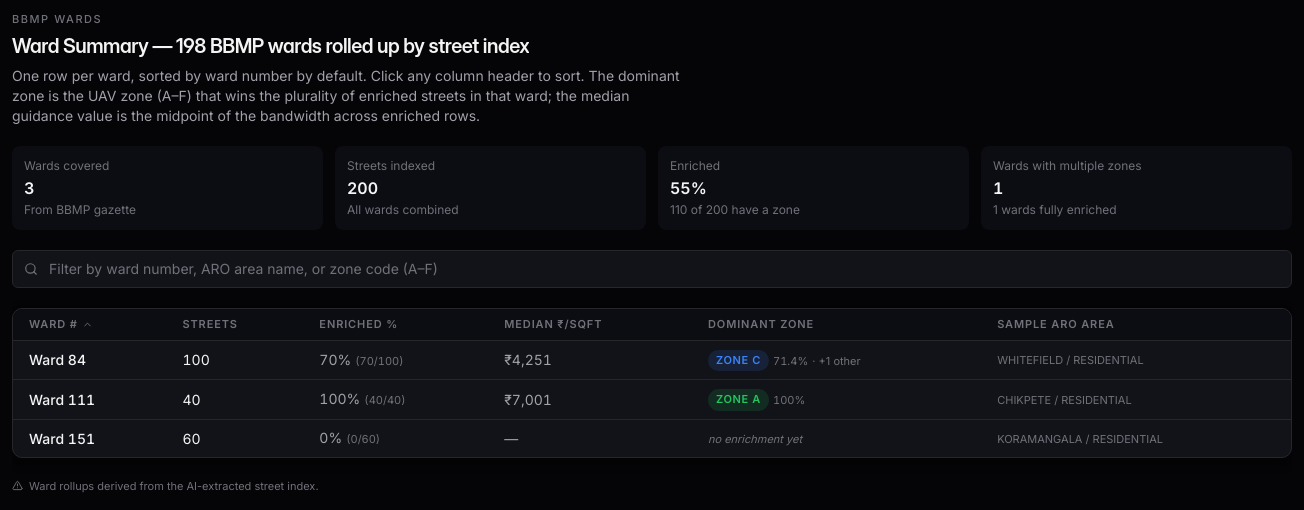
Test case: BbmpWardSummaryPanel › filters by ARO area name (case-insensitive)
Type "whitefield" into the search field with placeholder "Filter by ward number, ARO area name, or zone code (A–F)".
click(652, 269); type("whitefield")  # box top-left (12, 250), bottom-right (1292, 288)
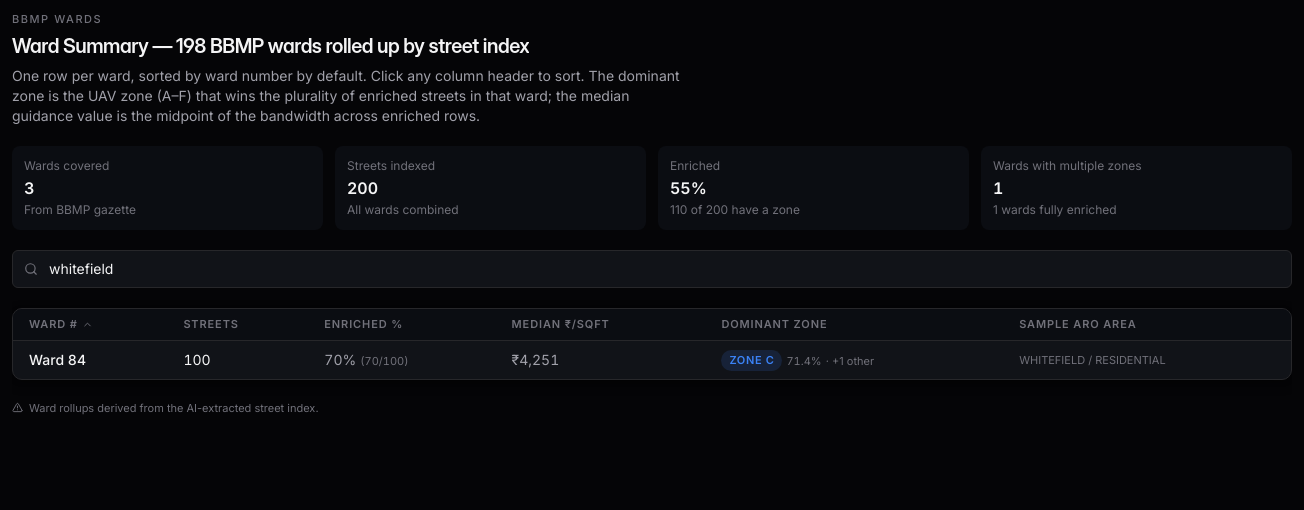
Check: the text "Ward 84" is shown, box top-left (13, 340), bottom-right (167, 379)
Check: the text "Ward 111" is gone
